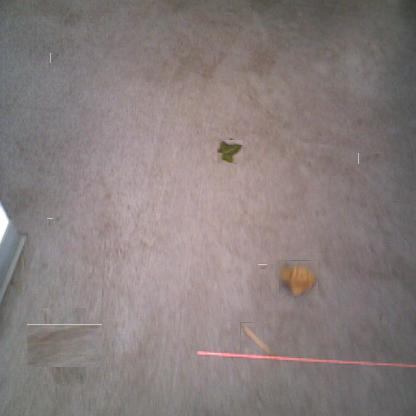dirty: (278, 260, 318, 296), (240, 322, 272, 354), (218, 138, 242, 164)
mark: (35, 316, 94, 376), (358, 152, 379, 164), (50, 54, 60, 63), (378, 311, 384, 323), (258, 264, 267, 272), (47, 218, 53, 227)
